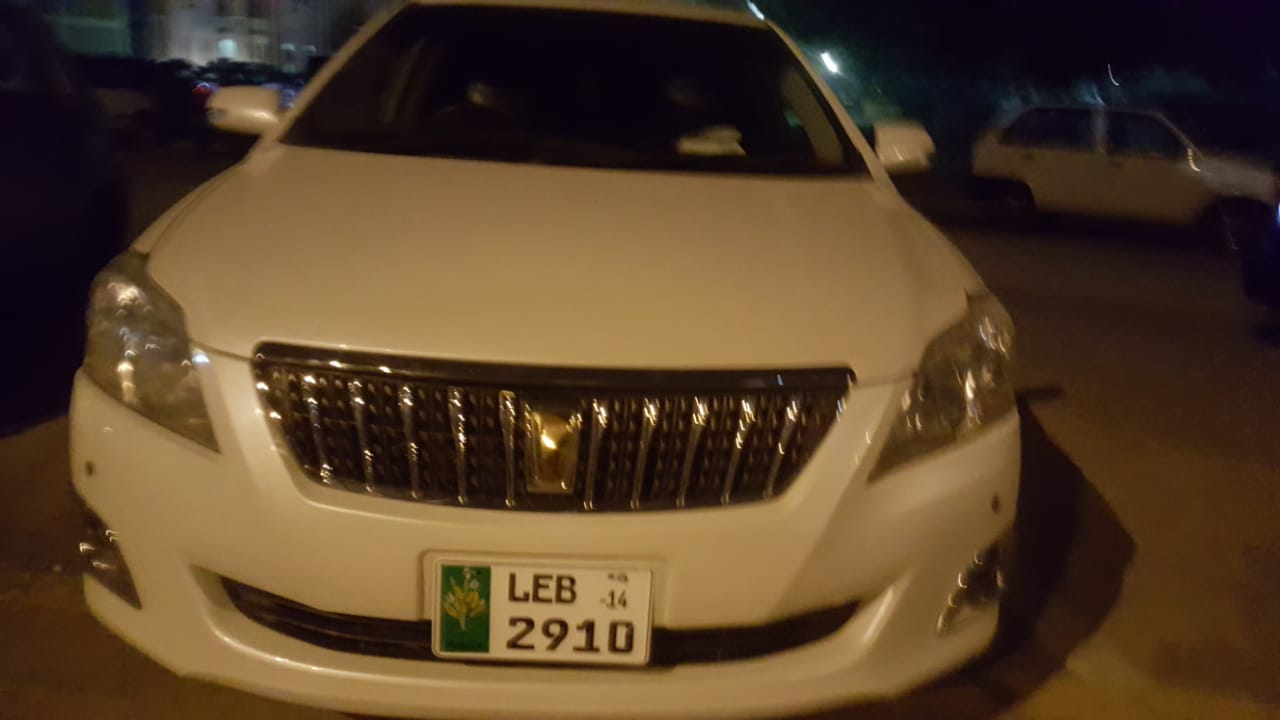license plate: (436, 559, 652, 662)
